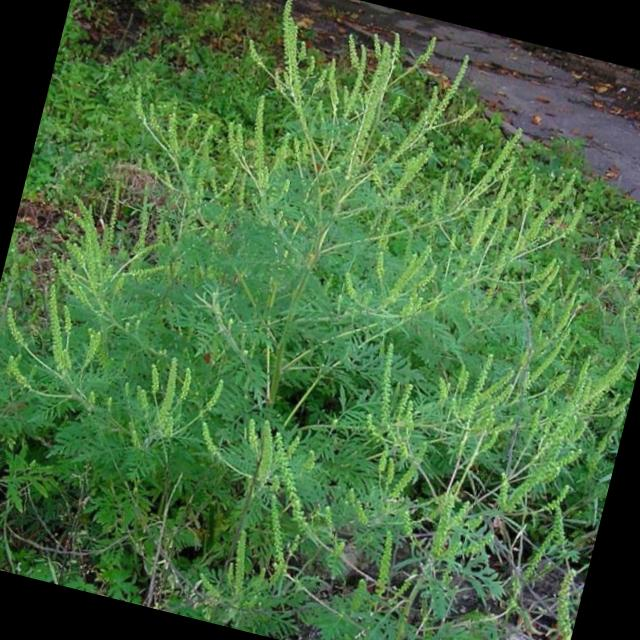ambrosia: (233, 0, 508, 234), (156, 379, 391, 640), (491, 312, 640, 533), (470, 158, 629, 314), (529, 553, 589, 640)
